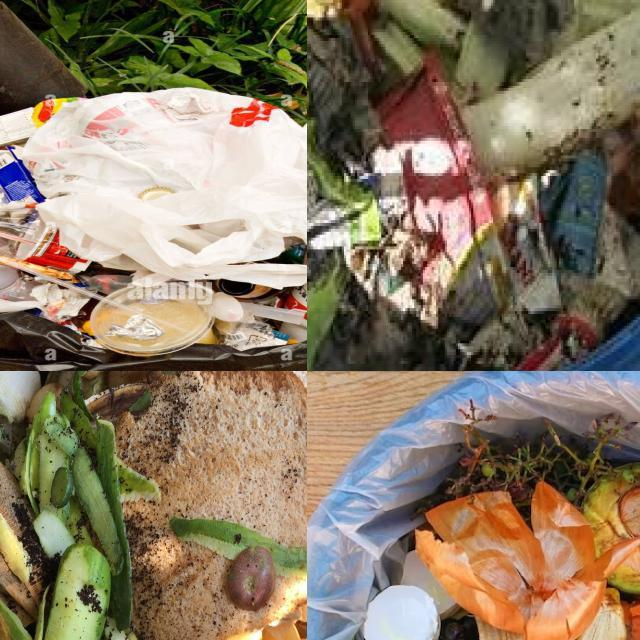Disposable: (88, 280, 214, 357)
Garbage: (307, 0, 640, 371), (0, 371, 307, 640), (0, 89, 307, 357), (352, 406, 640, 640)
Plastic: (364, 586, 441, 640), (242, 302, 305, 325), (212, 292, 244, 322), (0, 264, 20, 290)
Plastic_Bag: (22, 88, 307, 288), (214, 312, 289, 350)
Plastic_bottle: (0, 208, 88, 271), (259, 241, 307, 265), (216, 279, 276, 298)
Plastic_wraper: (0, 255, 70, 280), (31, 97, 80, 127)
Tetrapack: (0, 151, 46, 203)
